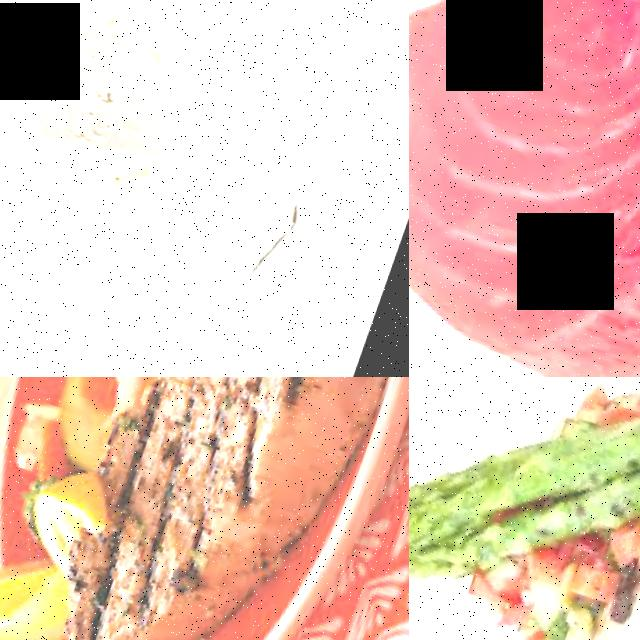tofu: (93, 127, 322, 298), (0, 0, 208, 185)
tuna: (409, 0, 640, 377)
